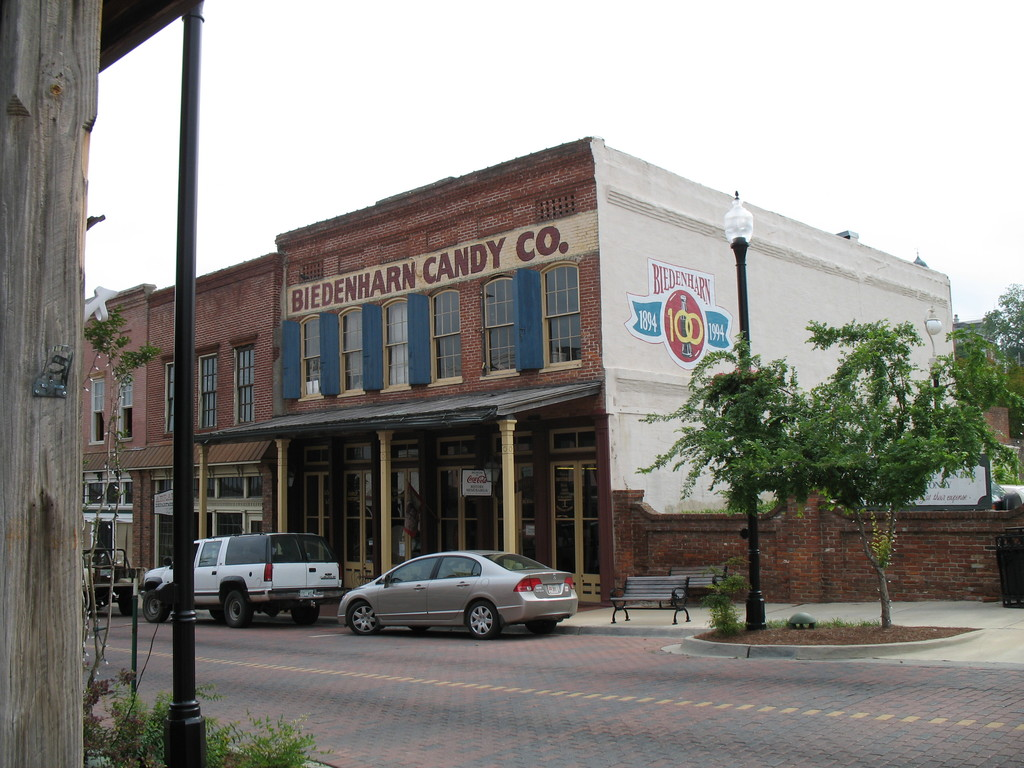mobil: (335, 546, 581, 646), (150, 533, 346, 623)
